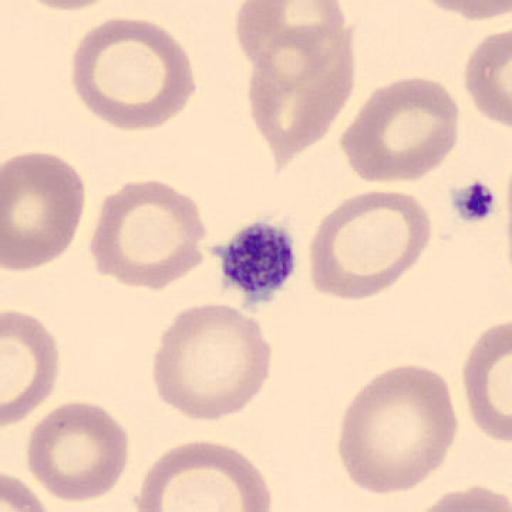Platelet: (217, 218, 298, 302)
RBC: (337, 362, 458, 496), (70, 15, 196, 132), (246, 40, 356, 174), (151, 302, 273, 422), (307, 188, 434, 301), (90, 178, 208, 292), (343, 75, 461, 185), (24, 400, 130, 504), (1, 149, 87, 273), (137, 438, 275, 512), (234, 1, 348, 77), (1, 308, 60, 427), (461, 320, 512, 446), (262, 23, 337, 90), (463, 27, 512, 129), (411, 484, 512, 512), (415, 0, 512, 23), (0, 471, 50, 512), (19, 0, 118, 11)
